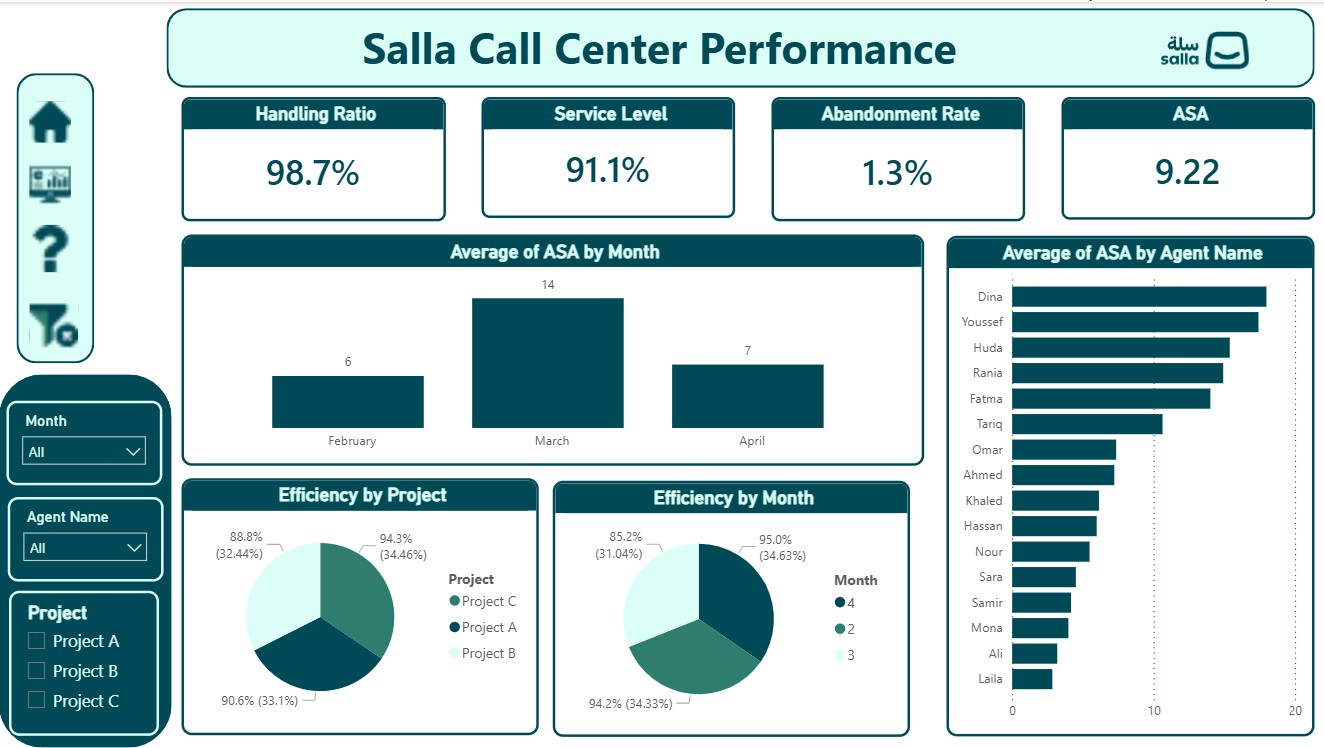

Layout of this report page (visuals, bound fields, positions):
{"tool":"powerbi","page":{"name":" overview","canvas":[1280,720],"ordinal":1},"visuals":[{"type":"shape","box":[161.3,5.6,1108.3,76.7],"z":0},{"type":"shape","box":[16.7,68.3,75,280],"z":1000},{"type":"actionButton","box":[1046.7,0,233.3,93.3],"z":2000},{"type":"actionButton","box":[229.7,10.6,816.7,58.3],"z":3000},{"type":"cardVisual","title":"Handling Ratio","fields":{"Data":["data.Handled Calls Ratio"]},"box":[176.7,91.7,255,120],"z":4000},{"type":"cardVisual","title":"Service Level","fields":{"Data":["data.Service Level"]},"box":[466.1,91.7,245,116.7],"z":5000},{"type":"cardVisual","title":"Abandonment Rate","fields":{"Data":["data.Abandonment Rate"]},"box":[745.6,91.7,245,120],"z":6000},{"type":"cardVisual","title":"ASA","fields":{"Data":["Avg(data.ASA)"]},"box":[1025,91.7,245,118.3],"z":7000},{"type":"columnChart","fields":{"Category":["data.Date.Variation.Date Hierarchy.Month","data.Day Name"],"Y":["Avg(data.ASA)"]},"box":[176.7,225,716.7,223.3],"z":8000},{"type":"pieChart","fields":{"Y":["data.Efficiency"],"Category":["data.Project"]},"box":[176.7,460,345,248.3],"z":9000},{"type":"barChart","fields":{"Category":["data.Agent Name"],"Y":["Avg(data.ASA)"]},"box":[914.7,225.7,355,483.3],"z":10000},{"type":"actionButton","box":[25,285,55,55],"z":11000},{"type":"shape","box":[0,360,166.7,360],"z":12000},{"type":"slicer","fields":{"Values":["data.Date.Variation.Date Hierarchy.Month"]},"box":[6.7,385,150,81.7],"z":13000},{"type":"slicer","fields":{"Values":["data.Project"]},"box":[10,568.3,145,140],"z":14000},{"type":"slicer","fields":{"Values":["data.Agent Name"]},"box":[8.3,478.3,150,81.7],"z":15000},{"type":"actionButton","box":[25,151.7,66.7,48.3],"z":16000},{"type":"actionButton","box":[25,91.7,66.7,48.3],"z":17000},{"type":"actionButton","box":[22.5,211.2,66.2,53.8],"z":19000},{"type":"pieChart","fields":{"Y":["data.Efficiency"],"Category":["data.Month"]},"box":[534.5,462.1,345,247.3],"z":19001}]}

Visuals, with their boxes in screenshot pixels (x1, y1, x2, y2), scaled from the page's 1280x720 canvas onto the 1324x748 screenshot:
shape: <region>167, 6, 1313, 86</region>
shape: <region>17, 71, 95, 362</region>
actionButton: <region>1083, 0, 1323, 97</region>
actionButton: <region>238, 11, 1082, 72</region>
"Handling Ratio" cardVisual: <region>183, 95, 447, 220</region>
"Service Level" cardVisual: <region>482, 95, 736, 217</region>
"Abandonment Rate" cardVisual: <region>771, 95, 1025, 220</region>
"ASA" cardVisual: <region>1060, 95, 1314, 218</region>
columnChart - data.Date.Variation.Date Hierarchy.Month x data.Day Name: <region>183, 234, 924, 466</region>
pieChart - data.Efficiency x data.Project: <region>183, 478, 540, 736</region>
barChart - data.Agent Name x Avg(data.ASA): <region>946, 234, 1313, 737</region>
actionButton: <region>26, 296, 83, 353</region>
shape: <region>0, 374, 172, 747</region>
slicer - data.Date.Variation.Date Hierarchy.Month: <region>7, 400, 162, 485</region>
slicer - data.Project: <region>10, 590, 160, 736</region>
slicer - data.Agent Name: <region>9, 497, 164, 582</region>
actionButton: <region>26, 158, 95, 208</region>
actionButton: <region>26, 95, 95, 145</region>
actionButton: <region>23, 219, 92, 275</region>
pieChart - data.Efficiency x data.Month: <region>553, 480, 910, 737</region>
